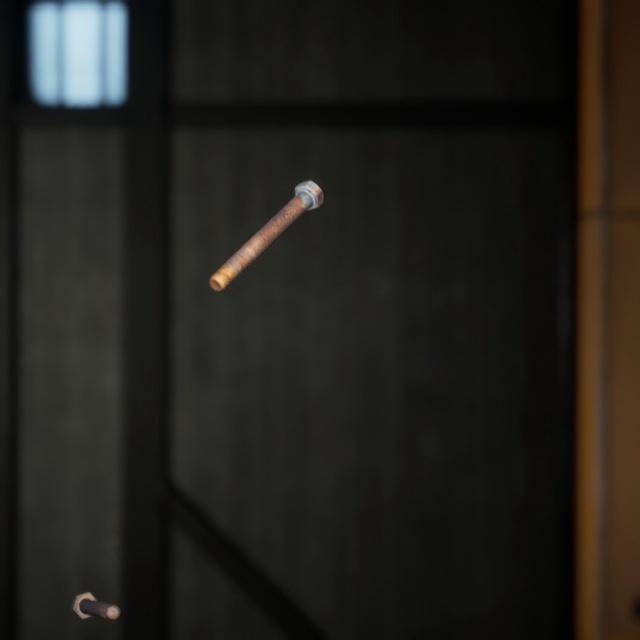bolt: (204, 160, 328, 279), (66, 564, 125, 601)
